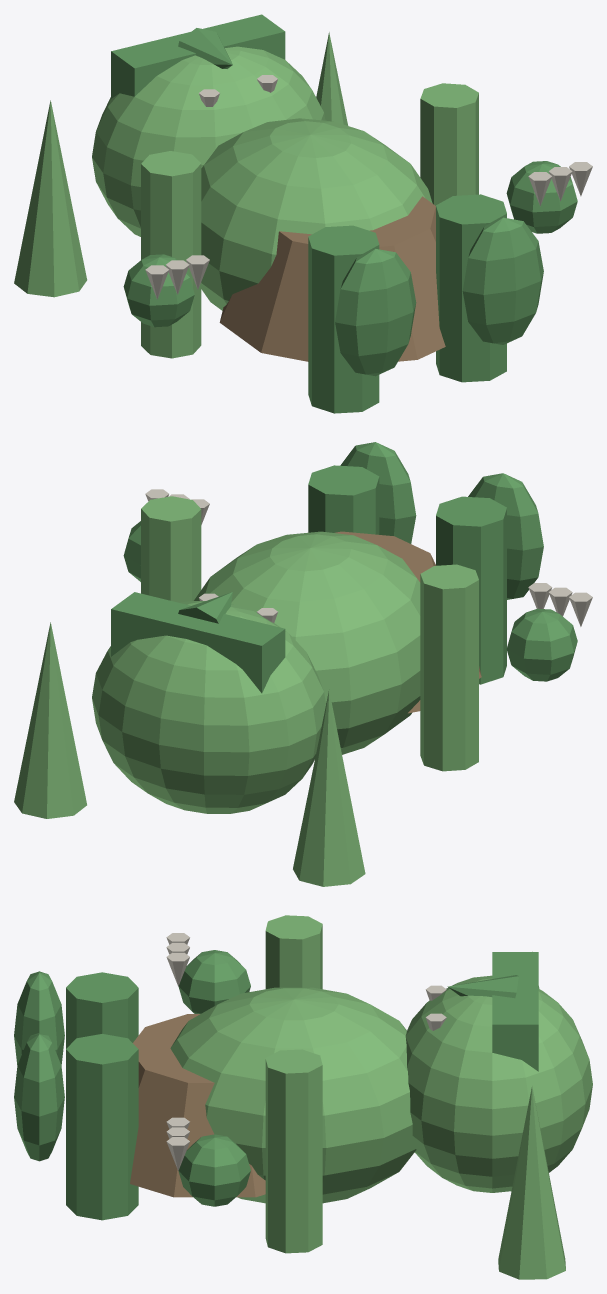
Rendered from goblin_hero.glb.
3 renders of one model, top to bottom at view 1: azimuth 30°, elevation 25°; view 2: azimuth 150°, elevation 25°; view 3: azimuth 270°, elevation 25°, orthographic.
Parts seen in each view (by area): view 1: GoblinHero; view 2: GoblinHero; view 3: GoblinHero.
Boxes of the visible parts, box(x1,y1,x2,y2) form: GoblinHero: box(14, 14, 592, 413); GoblinHero: box(14, 442, 592, 886); GoblinHero: box(14, 915, 592, 1279).
Size of the model in its own units: 0.77 by 0.3705 by 0.8755.
